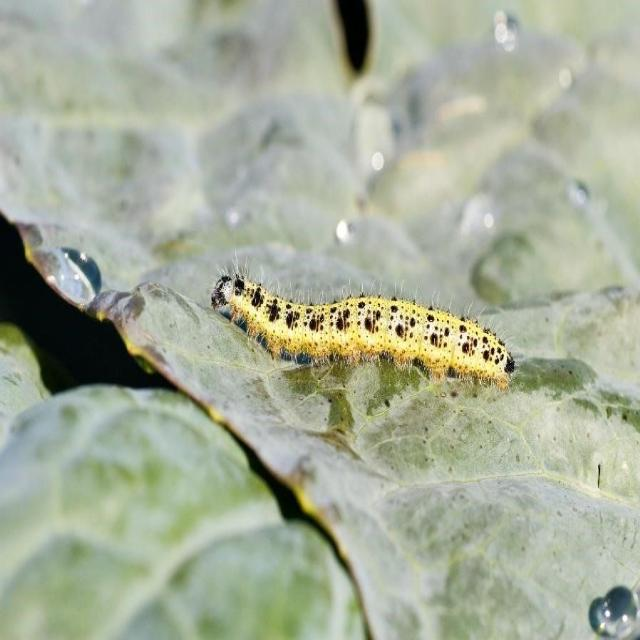worm: (211, 255, 517, 393)
